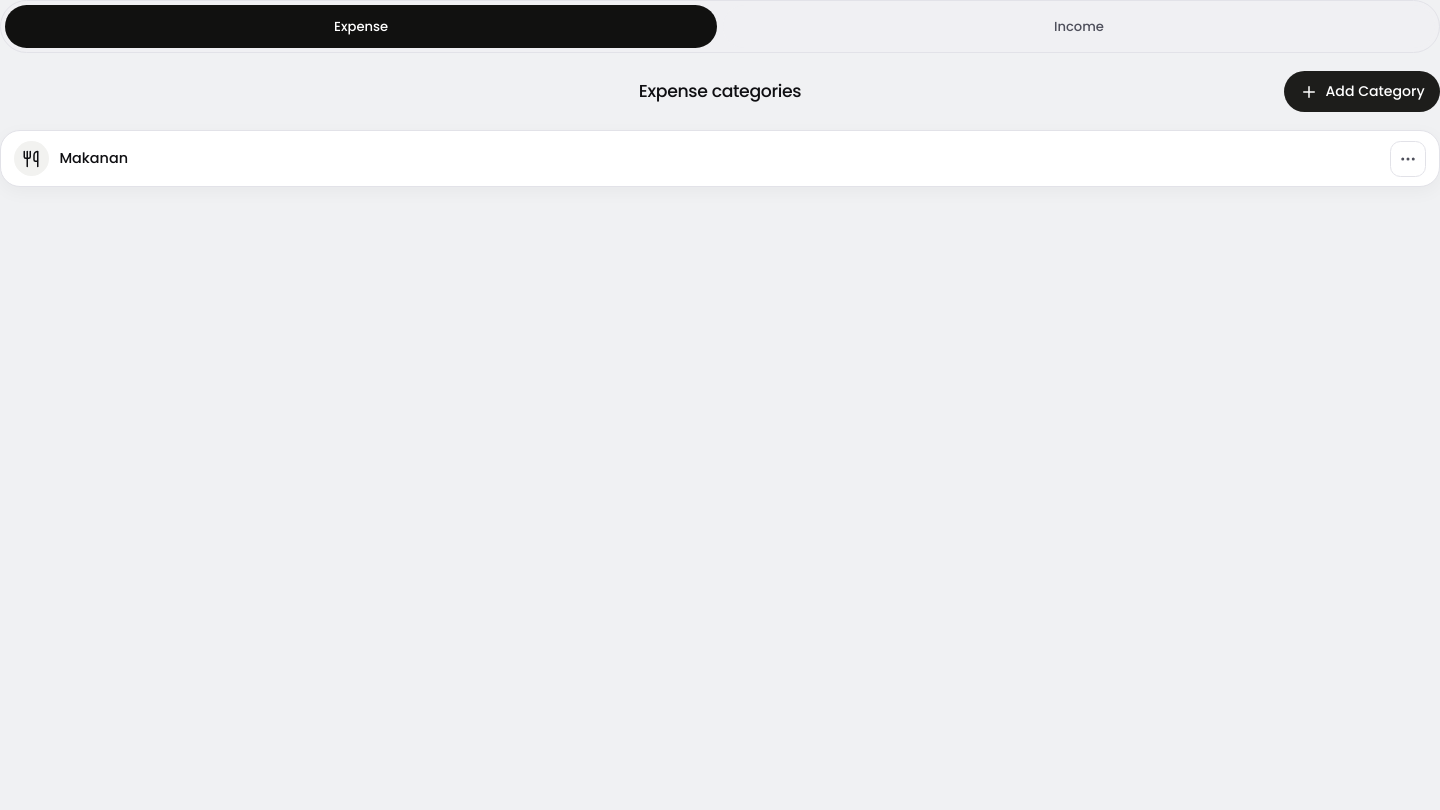
Scenario: category manager › opens the action sheet with edit, archive and delete items
What coordinates should you click on to do the following:
click the button named "Actions for Makanan"
I would click on:
 (1408, 159)
Its box is [1390,141,1426,177].
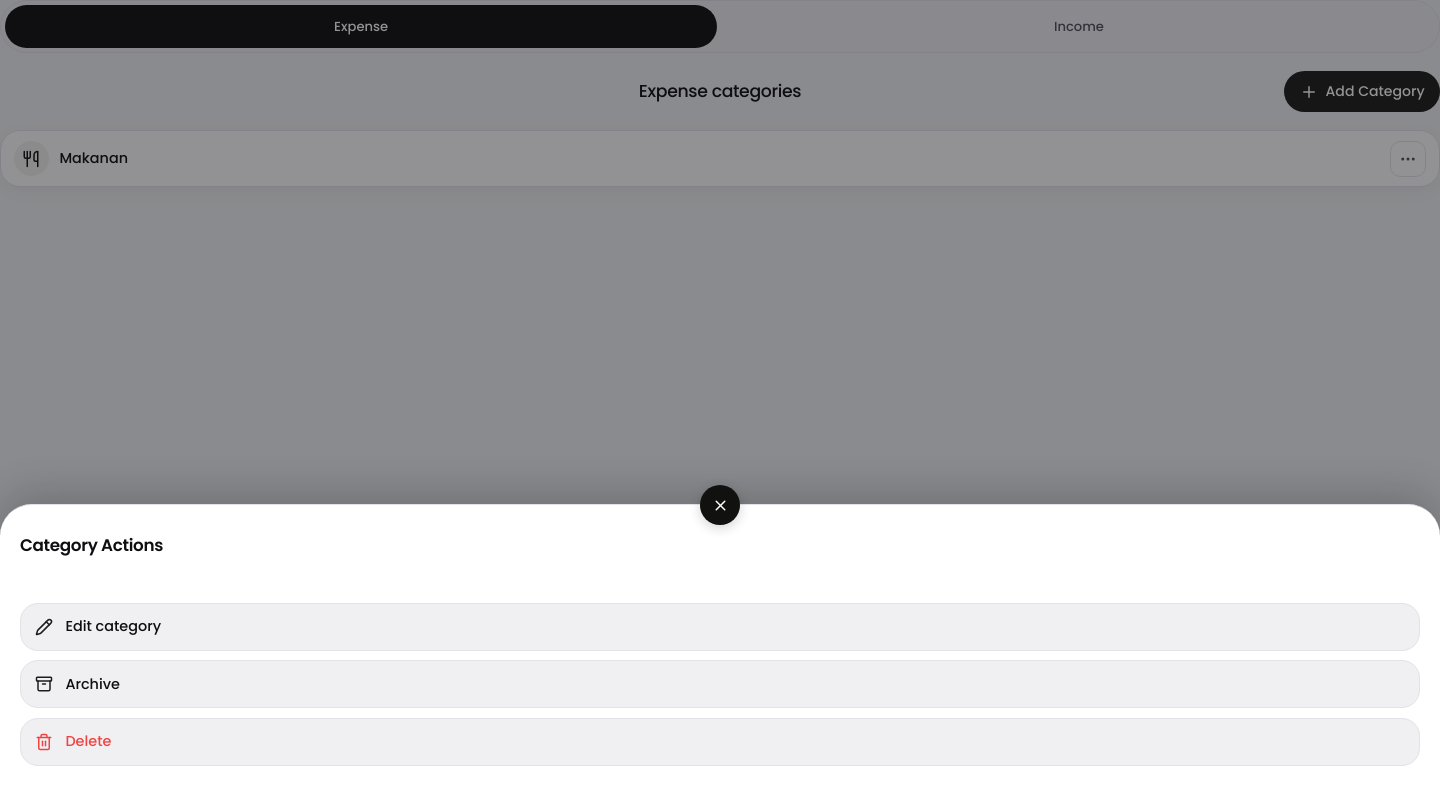
Result: the dialog "Category Actions" is shown
Result: the button "Edit category" is shown at [20,603,1420,651]
Result: the button "Archive" is shown at [20,660,1420,708]
